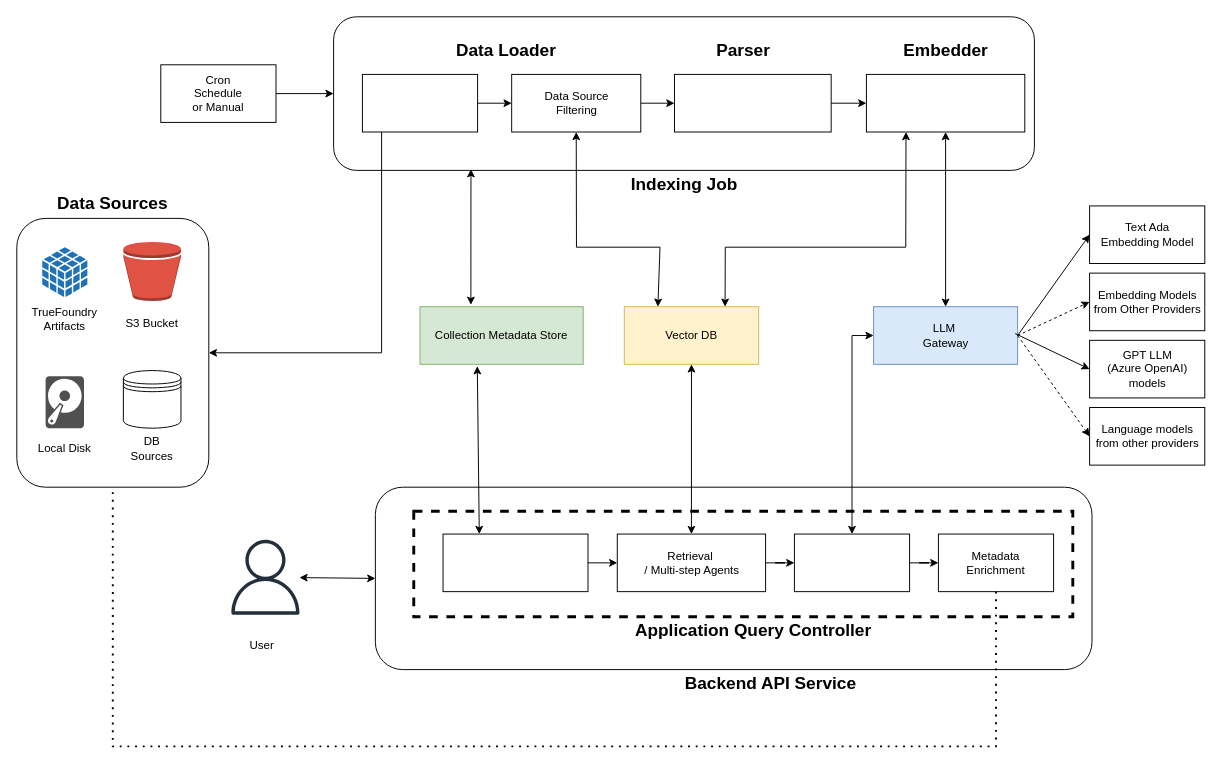
Some shapes in this 1222 by 765 pixel diagram are drawn without their labels. Here are the shapes that lost their labels. From the top down, the centre of each, then its label:
the point at 419,102: Data Source Scanning/Crawling
the point at 752,102: Data Files Parsing and Chunking
the point at 945,102: Chunks Embedding and Metadata
the point at 515,562: Fetch Collection Metadata
the point at 851,562: Answer Generation
